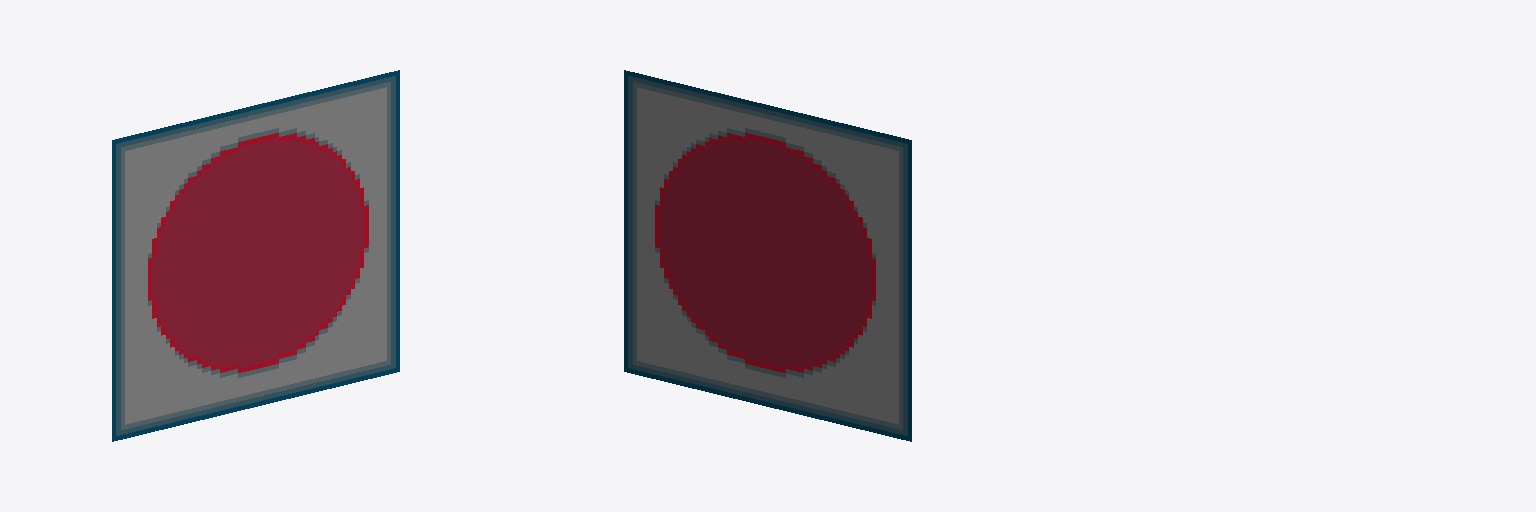
The picture shows the model from 3 angles: view 1: azimuth 30°, elevation 25°; view 2: azimuth 150°, elevation 25°; view 3: azimuth 270°, elevation 25°; orthographic projection.
Parts seen in each view (by area): view 1: Plane; view 2: Plane; view 3: none.
Boxes of the visible parts, x1,y1,x2,y2 form: Plane: [112, 70, 399, 441]; Plane: [624, 70, 911, 441].
Size of the model in its own units: 10 by 10 by 0.
1 materials, 1 textured.